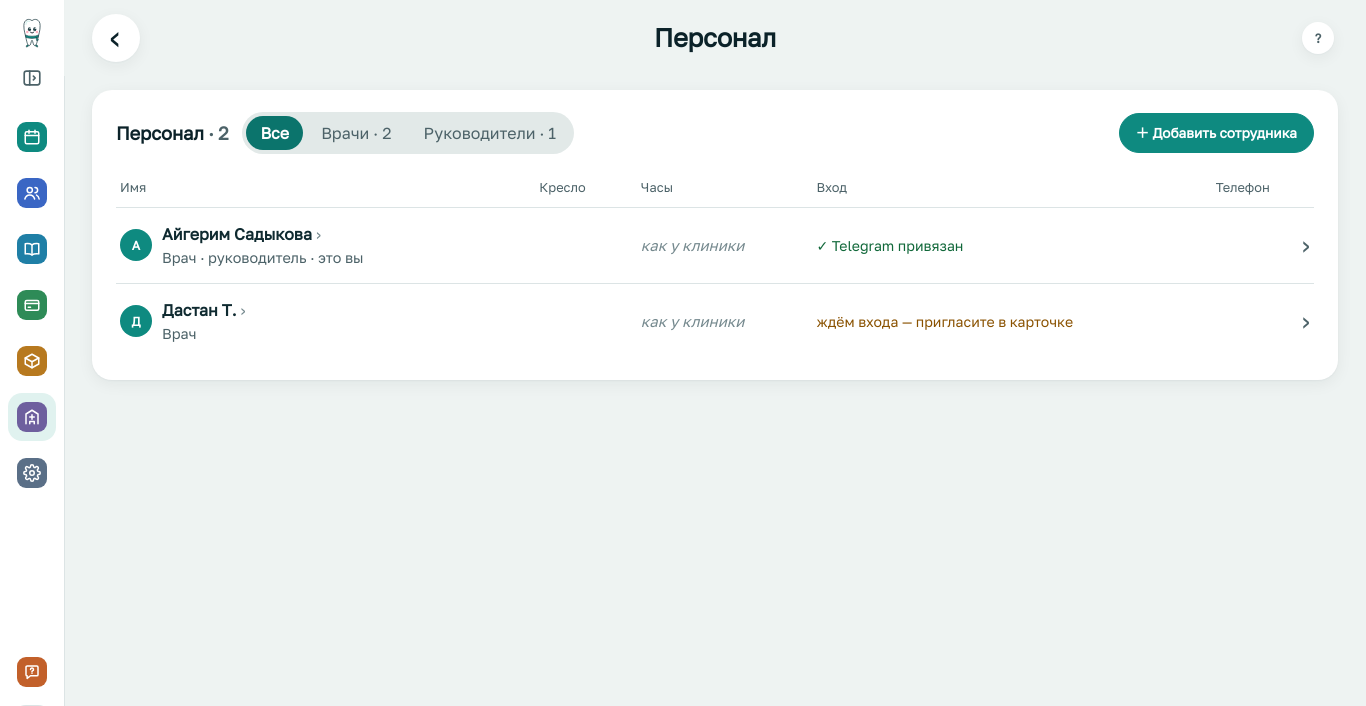
Test: руководитель: «＋ Новое кресло» — кресло заводится и сразу назначается врачу
Click the button "Дастан Т." at coordinates (204, 310), box [162,298,246,322]
(page scrolled)
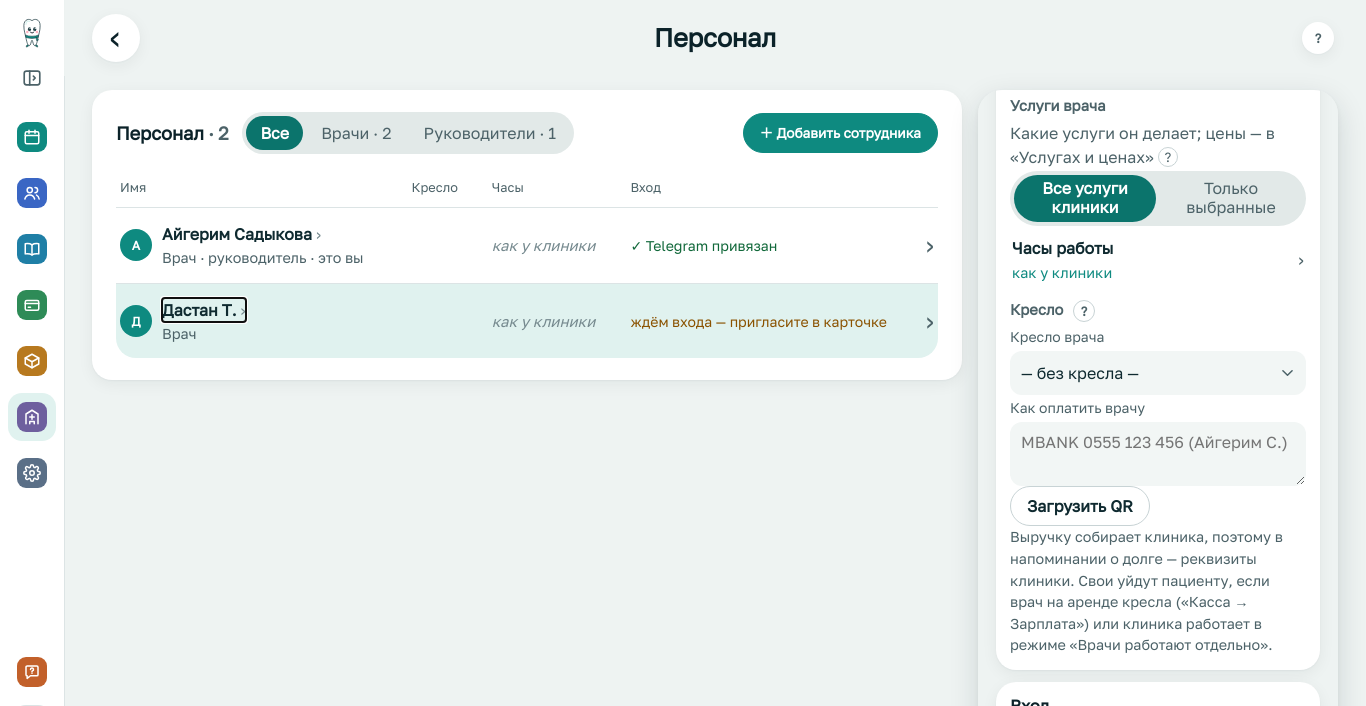
Click the dropdown named "Кресло врача" at coordinates (1080, 373), box [1010,351,1306,395]
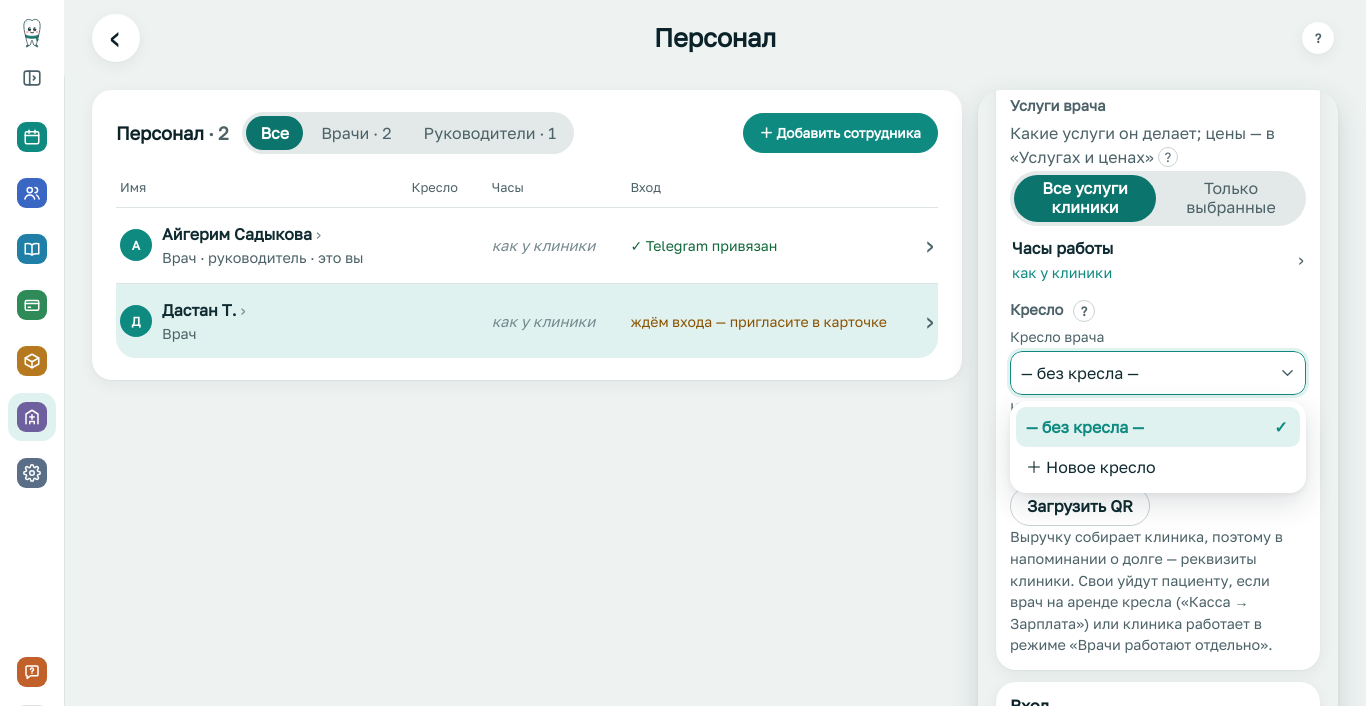
Click the option "＋ Новое кресло" at coordinates (1091, 467), box [1026,457,1156,477]
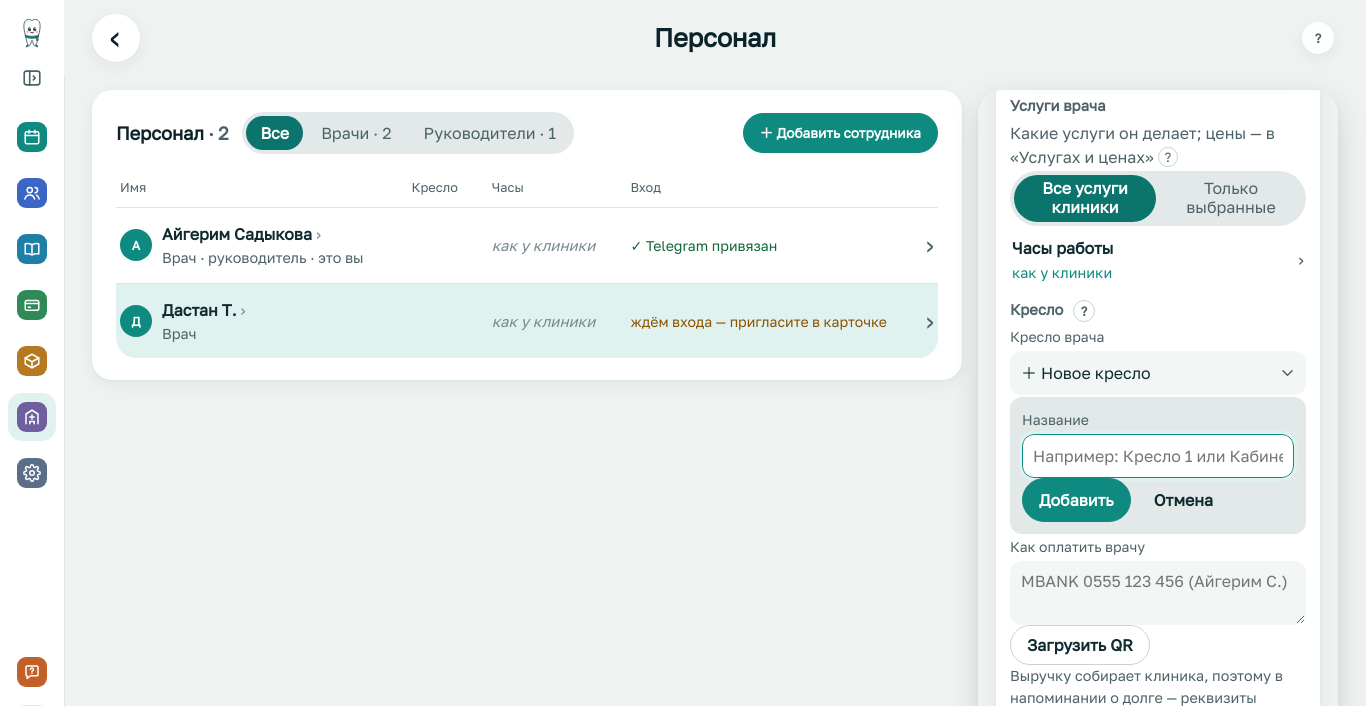
Type "Кресло 1" into the field labelled "Название" at coordinates (1158, 456), box [1022,434,1294,478]
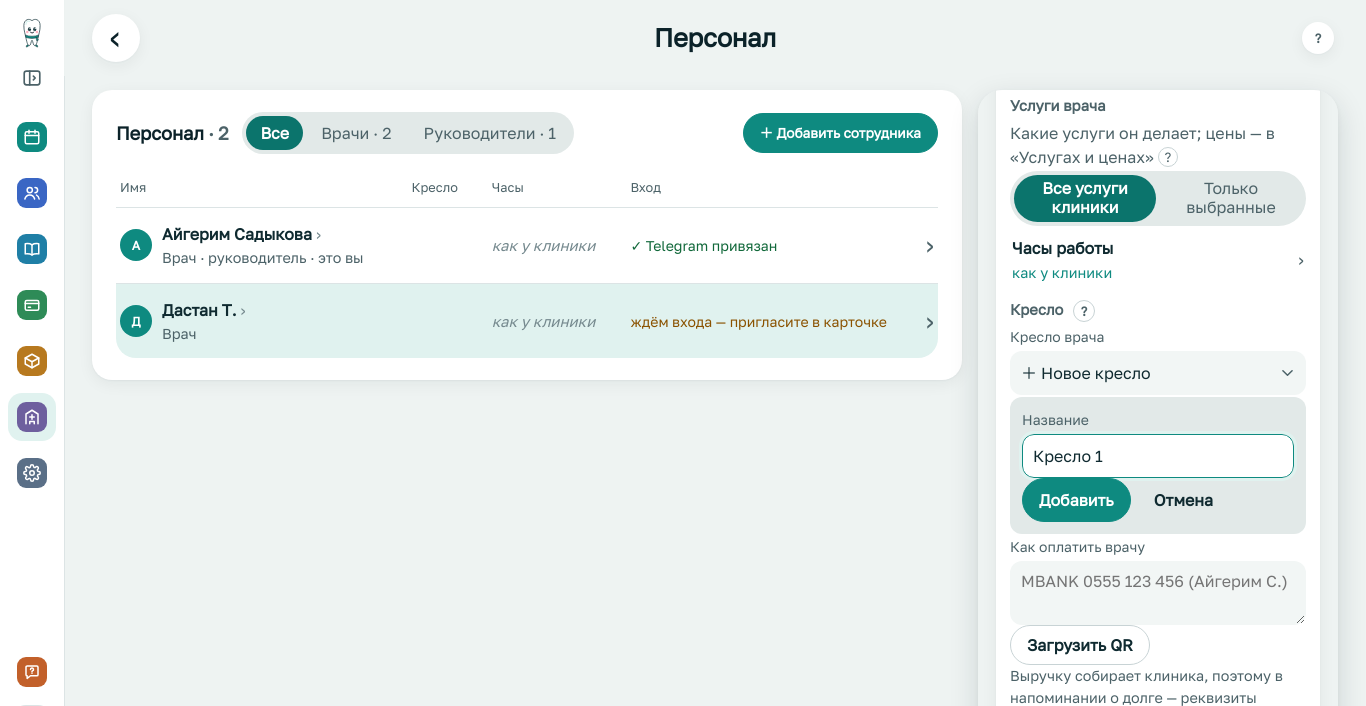
Click the button "Добавить" at coordinates (1076, 500), box [1022,478,1131,522]
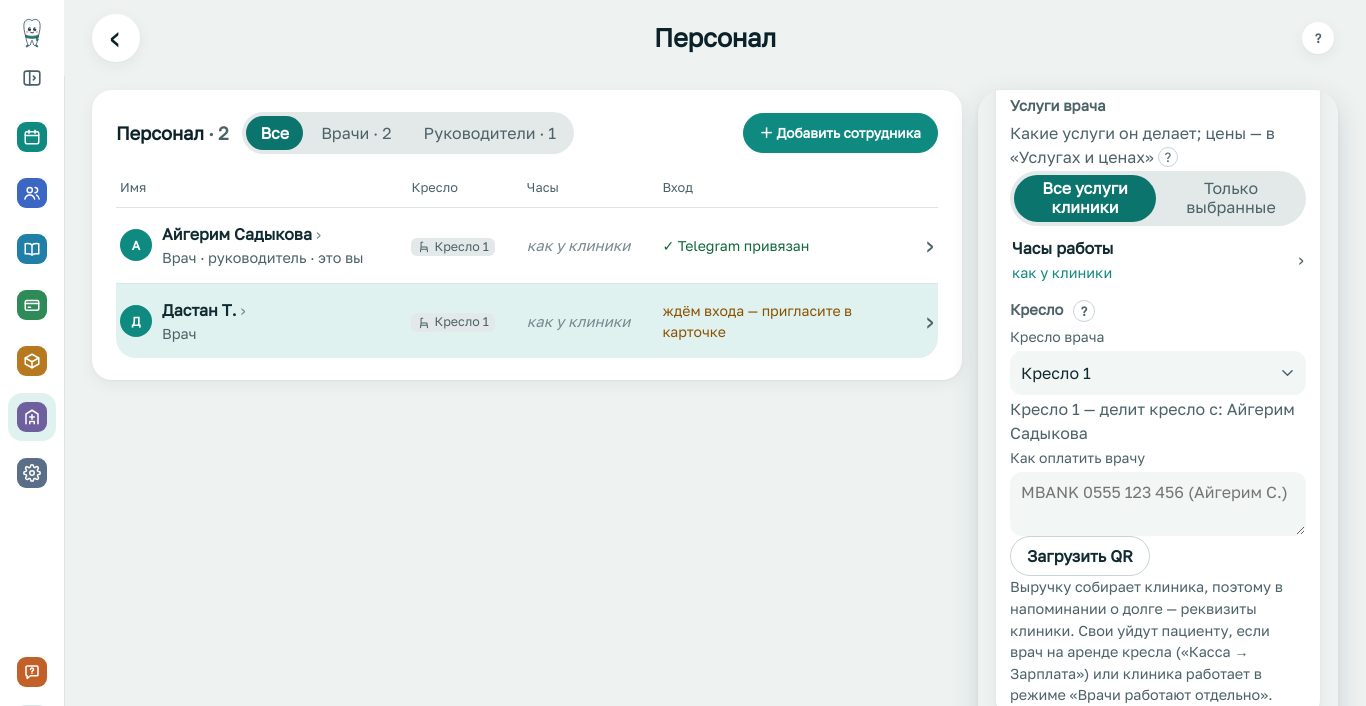
Expected: the text "Кресло 1 — делит кресло с: Айгерим Садыкова" is shown, [1010,397,1306,445]
Expected: the dropdown named "Кресло врача" reads "Кресло 1", [1010,351,1306,395]
Expected: the element named "Кресло 1, делит кресло с: Айгерим Садыкова" is shown, [412,313,495,332]
